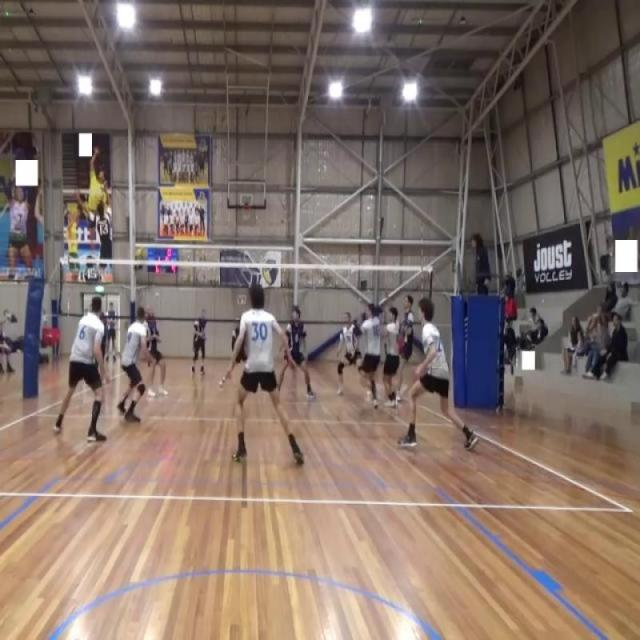volleyball: (133, 244, 148, 262)
